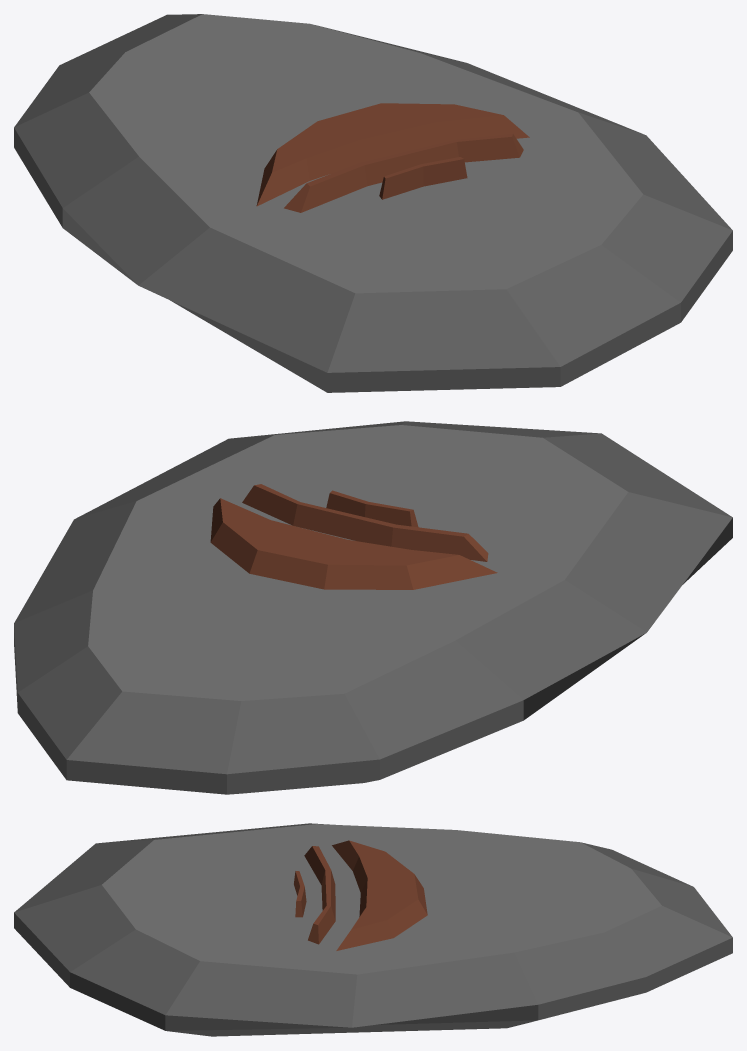
The model's file is earth_rune.glb.
3 renders of one model, top to bottom at view 1: azimuth 30°, elevation 25°; view 2: azimuth 150°, elevation 25°; view 3: azimuth 270°, elevation 25°, orthographic. The views are drawn at different scales.
Parts seen in each view (by area): view 1: Object_16, Object_7, Object_3; view 2: Object_16, Object_7, Object_3; view 3: Object_16, Object_7, Object_3.
Boxes of the visible parts, bbox=[...] form: Object_16: bbox=[14, 14, 732, 392]; Object_7: bbox=[89, 14, 642, 293]; Object_3: bbox=[256, 103, 529, 212]; Object_16: bbox=[14, 421, 732, 794]; Object_7: bbox=[88, 425, 627, 700]; Object_3: bbox=[210, 484, 497, 589]; Object_16: bbox=[14, 823, 732, 1036]; Object_7: bbox=[102, 824, 661, 974]; Object_3: bbox=[294, 840, 427, 950].
Bounding box in the file's own units: 3.16 × 0.6263 × 4.7.
